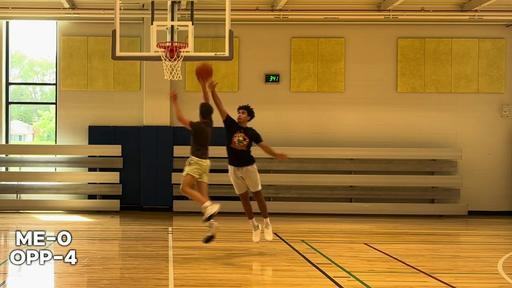ball: (194, 62, 214, 80)
human: (208, 81, 287, 242), (170, 91, 220, 244)
rim: (156, 41, 188, 81)
